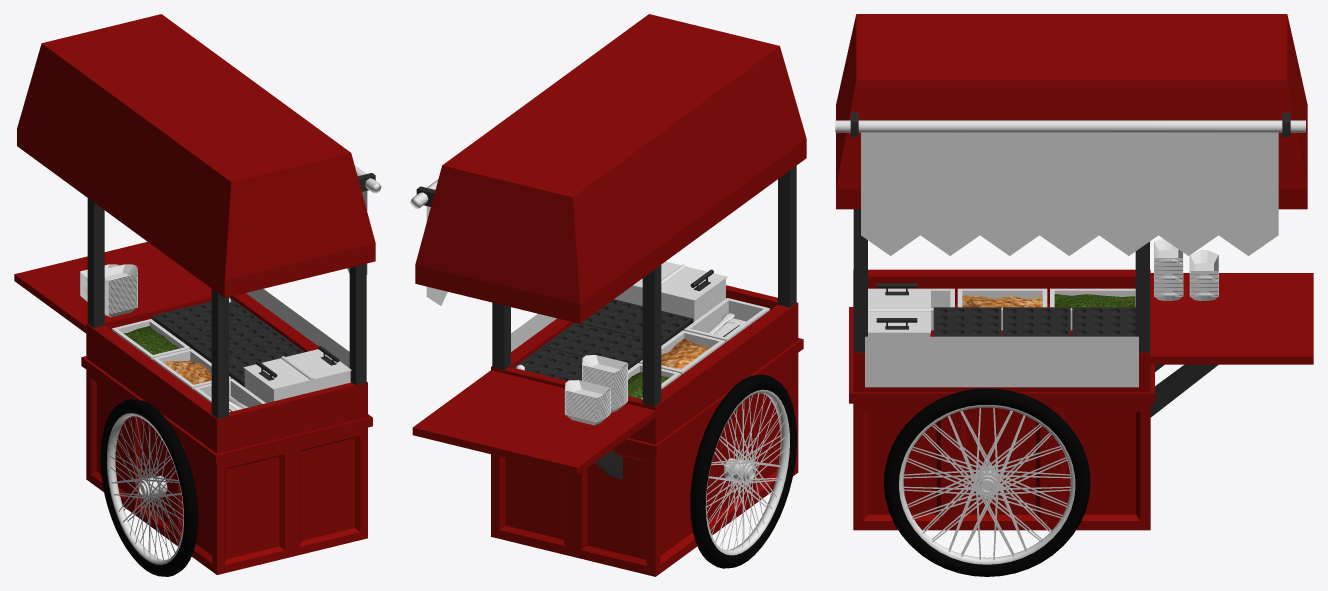
File: Tacoyaki Stand.fbx
The picture shows the model from 3 angles, left to right: view 1: azimuth 30°, elevation 25°; view 2: azimuth 150°, elevation 25°; view 3: azimuth 270°, elevation 25°; orthographic projection. The views are drawn at different scales.
Parts seen in each view (by area): view 1: Cube.004, Cube, Plane.001, Cube.003, Cube.007, Cube.008, Plane.002, Cube.009, Cube.011, Cube.014, Cube.012, Plane.005 (+1 smaller); view 2: Cube.004, Cube, Plane.001, Cube.003, Cube.007, Cube.008, Cube.010, Cube.009, Cube.011, Cube.014, Plane.004, Plane.002 (+1 smaller); view 3: Cube.004, Cube, Plane, Plane.001, Plane.002, Cube.007, Cylinder, Cube.003, Cube.008, Cube.009, Cube.010, Cube.001 (+4 smaller).
Part boxes in pixels (x1,y1,x2,y2): Cube.004: [17, 14, 375, 297]; Cube: [14, 242, 372, 574]; Plane.001: [100, 399, 198, 576]; Cube.003: [87, 198, 366, 418]; Cube.007: [151, 297, 304, 386]; Cube.008: [112, 319, 265, 412]; Plane.002: [246, 289, 349, 367]; Cube.009: [104, 264, 137, 317]; Cube.011: [244, 369, 350, 402]; Cube.014: [243, 358, 310, 389]; Cube.012: [285, 349, 351, 379]; Plane.005: [123, 326, 179, 354]; Cube.004: [415, 14, 806, 323]; Cube: [412, 285, 803, 576]; Plane.001: [690, 374, 796, 568]; Cube.003: [492, 166, 796, 406]; Cube.007: [513, 299, 693, 380]; Cube.008: [628, 298, 769, 399]; Cube.010: [564, 380, 610, 425]; Cube.009: [582, 355, 627, 412]; Cube.011: [614, 279, 725, 322]; Cube.014: [661, 266, 727, 301]; Plane.004: [661, 338, 711, 369]; Plane.002: [511, 314, 556, 351]; Cube.004: [836, 14, 1307, 209]; Cube: [849, 269, 1313, 530]; Plane: [861, 132, 1278, 255]; Plane.001: [884, 388, 1090, 576]; Plane.002: [865, 336, 1138, 387]; Cube.007: [933, 307, 1135, 336]; Cylinder: [835, 120, 1305, 132]; Cube.003: [853, 209, 1149, 352]; Cube.008: [868, 288, 1135, 330]; Cube.009: [1154, 238, 1183, 300]; Cube.010: [1189, 250, 1218, 300]; Cube.001: [1150, 364, 1218, 417].
Size of the model in its own units: 95.19 by 209 by 188.
